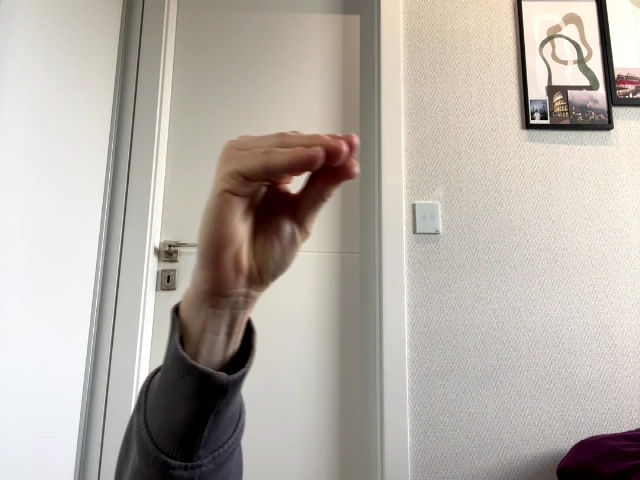E: (198, 131, 360, 294)
